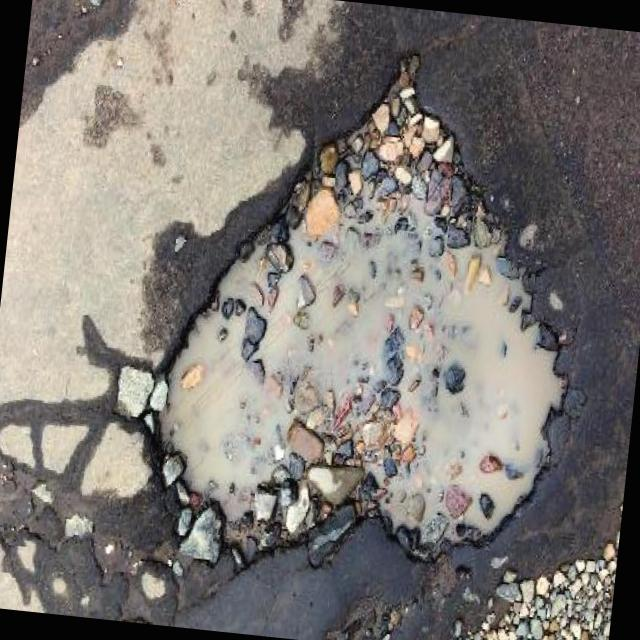pothole: (124, 31, 603, 610)
